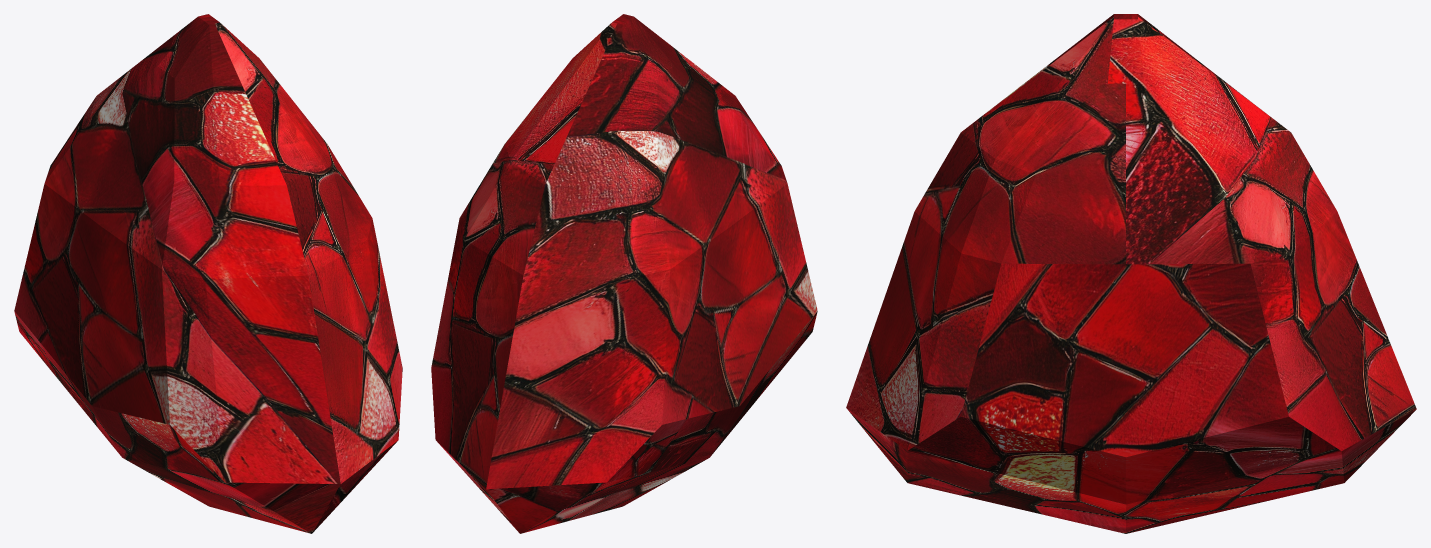
Rendered from gemstone5Red.glb.
3 renders of one model, left to right at view 1: azimuth 30°, elevation 25°; view 2: azimuth 150°, elevation 25°; view 3: azimuth 270°, elevation 25°, orthographic. The views are drawn at different scales.
Parts seen in each view (by area): view 1: gemstone4; view 2: gemstone4; view 3: gemstone4.
Boxes of the visible parts, x1,y1,x2,y2 form: gemstone4: [14, 14, 402, 533]; gemstone4: [431, 14, 817, 533]; gemstone4: [846, 14, 1416, 533].
Size of the model in its own units: 0.5 by 1 by 1.
Materials: 1 (1 with a texture image).
